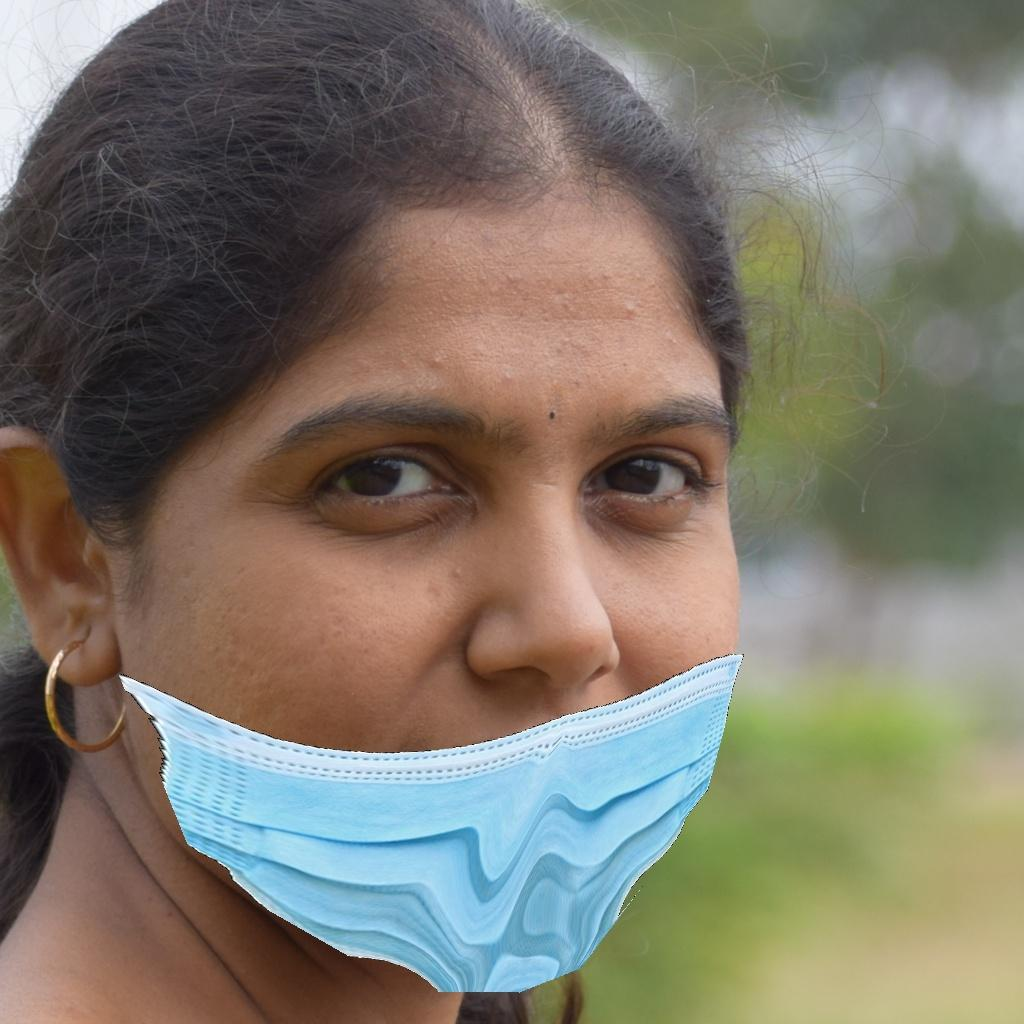Máscara Incorreta: (153, 319, 756, 979)
